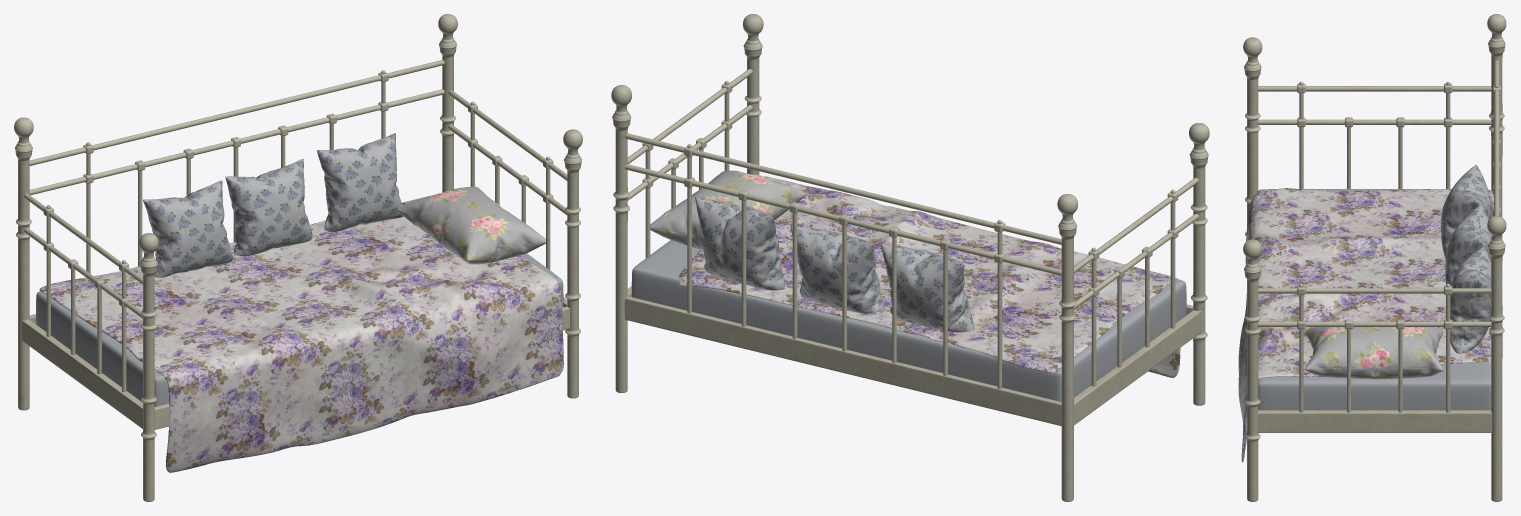
Rendered from bk_bed_metal.glb.
3 views of the same model, side by side, from view 1: azimuth 30°, elevation 25°; view 2: azimuth 150°, elevation 25°; view 3: azimuth 270°, elevation 25° (orthographic). The views are drawn at different scales.
Visible parts, largest first — view 1: Sheet, Cage, Pillow_d, Pillow_c, Pillow_b, Pillow_a, Mattress_Bed, Holder_Bed; view 2: Cage, Sheet, Mattress_Bed, Holder_Bed, Pillow_c, Pillow_b, Pillow_a, Pillow_d; view 3: Sheet, Cage, Mattress_Bed, Pillow_d, Holder_Bed, Pillow_c, Pillow_a, Pillow_b.
Boxes of the visible parts, bbox=[...] form: Sheet: bbox=[39, 203, 563, 472]; Cage: bbox=[14, 14, 582, 501]; Pillow_d: bbox=[397, 186, 545, 264]; Pillow_c: bbox=[317, 133, 403, 232]; Pillow_b: bbox=[225, 159, 312, 256]; Pillow_a: bbox=[143, 180, 233, 277]; Mattress_Bed: bbox=[36, 195, 563, 406]; Holder_Bed: bbox=[22, 297, 569, 429]; Cage: bbox=[611, 14, 1209, 501]; Sheet: bbox=[678, 176, 1180, 377]; Mattress_Bed: bbox=[631, 240, 1186, 401]; Holder_Bed: bbox=[624, 286, 1201, 425]; Pillow_c: bbox=[695, 197, 785, 290]; Pillow_b: bbox=[790, 224, 883, 313]; Pillow_a: bbox=[881, 244, 974, 332]; Pillow_d: bbox=[650, 170, 806, 249]; Sheet: bbox=[1238, 188, 1493, 462]; Cage: bbox=[1243, 14, 1506, 501]; Mattress_Bed: bbox=[1257, 189, 1491, 410]; Pillow_d: bbox=[1305, 327, 1443, 379]; Holder_Bed: bbox=[1257, 410, 1492, 432]; Pillow_c: bbox=[1450, 246, 1491, 354]; Pillow_a: bbox=[1441, 165, 1493, 258]; Pillow_b: bbox=[1445, 204, 1491, 285].
Size of the model in its own units: 2.37 by 1.49 by 1.28.
Materials: 6 (5 with a texture image).
